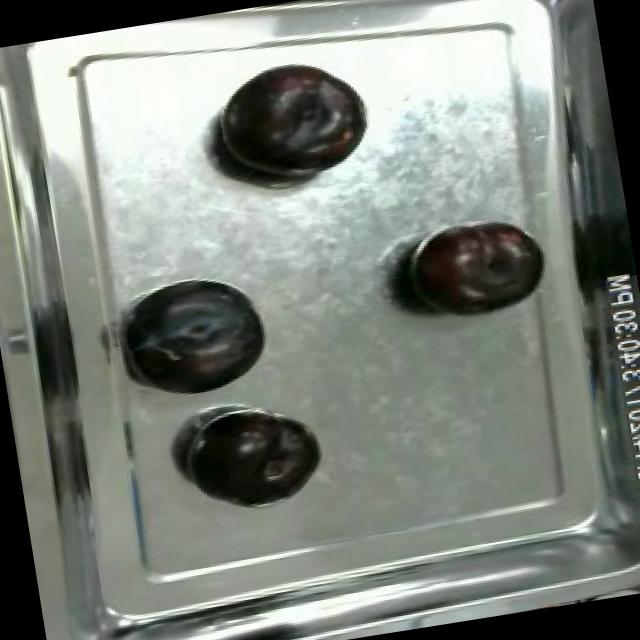Fruit: (202, 46, 378, 190), (116, 269, 274, 402), (396, 209, 552, 330), (182, 398, 329, 510)
